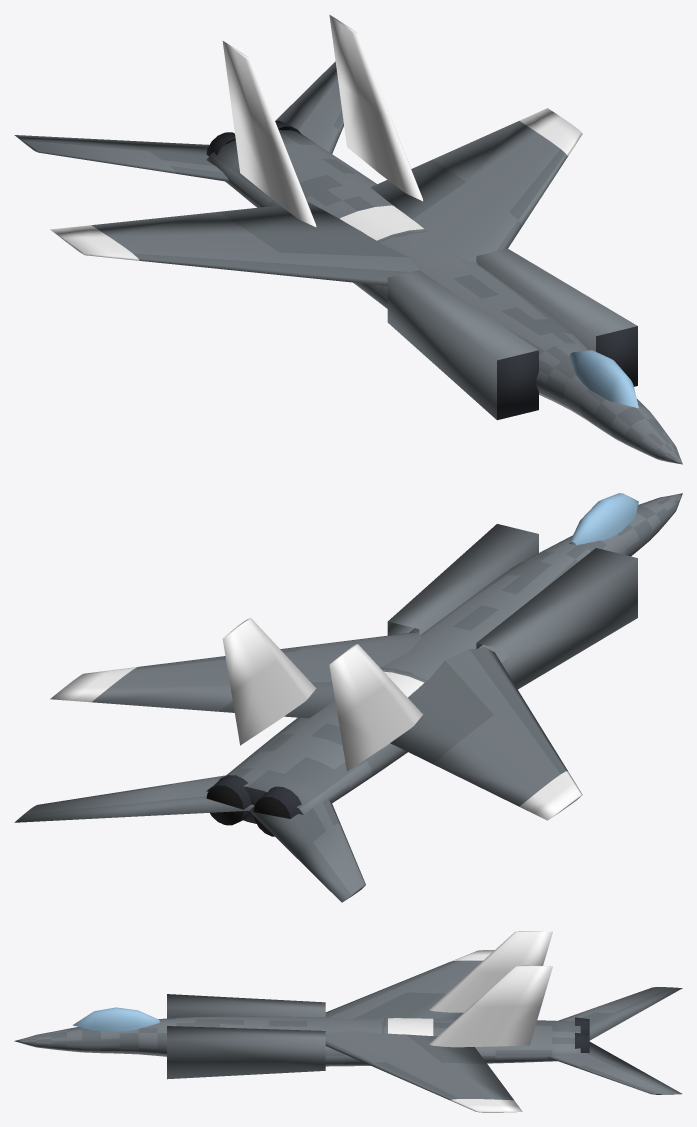
3 renders of one model, top to bottom at view 1: azimuth 30°, elevation 25°; view 2: azimuth 150°, elevation 25°; view 3: azimuth 270°, elevation 25°, orthographic. The views are drawn at different scales.
Parts seen in each view (by area): view 1: body; view 2: body; view 3: body.
Boxes of the visible parts, x1,y1,x2,y2 form: body: [14, 14, 682, 464]; body: [14, 493, 682, 902]; body: [14, 931, 682, 1112].
Bounding box in the file's own units: 13.05 × 4.16 × 22.93.
